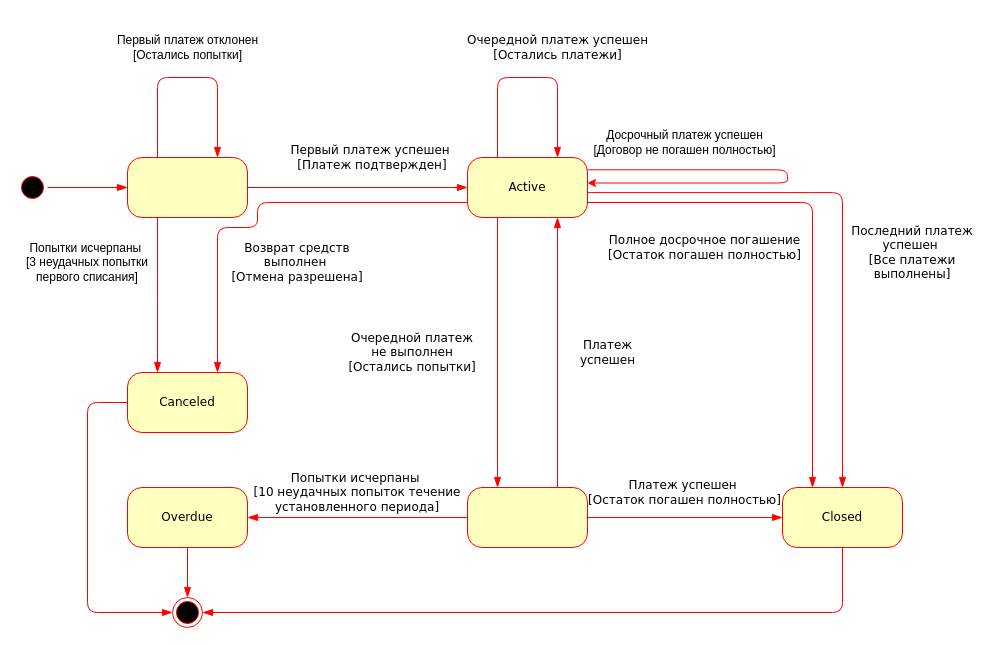
The diagram is 995 pixels wide and 645 high, and some of its shapes have lost their labels. The box of each missing label's shape, as (x1, y1, x2, y2) in pixels:
Pending: (126, 156, 248, 218)
PendingPayment: (466, 486, 588, 548)
